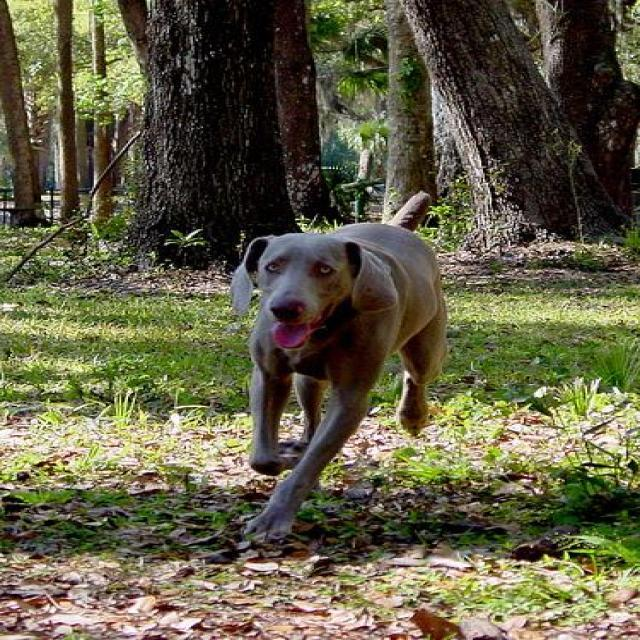adult_dog: (231, 191, 448, 539)
